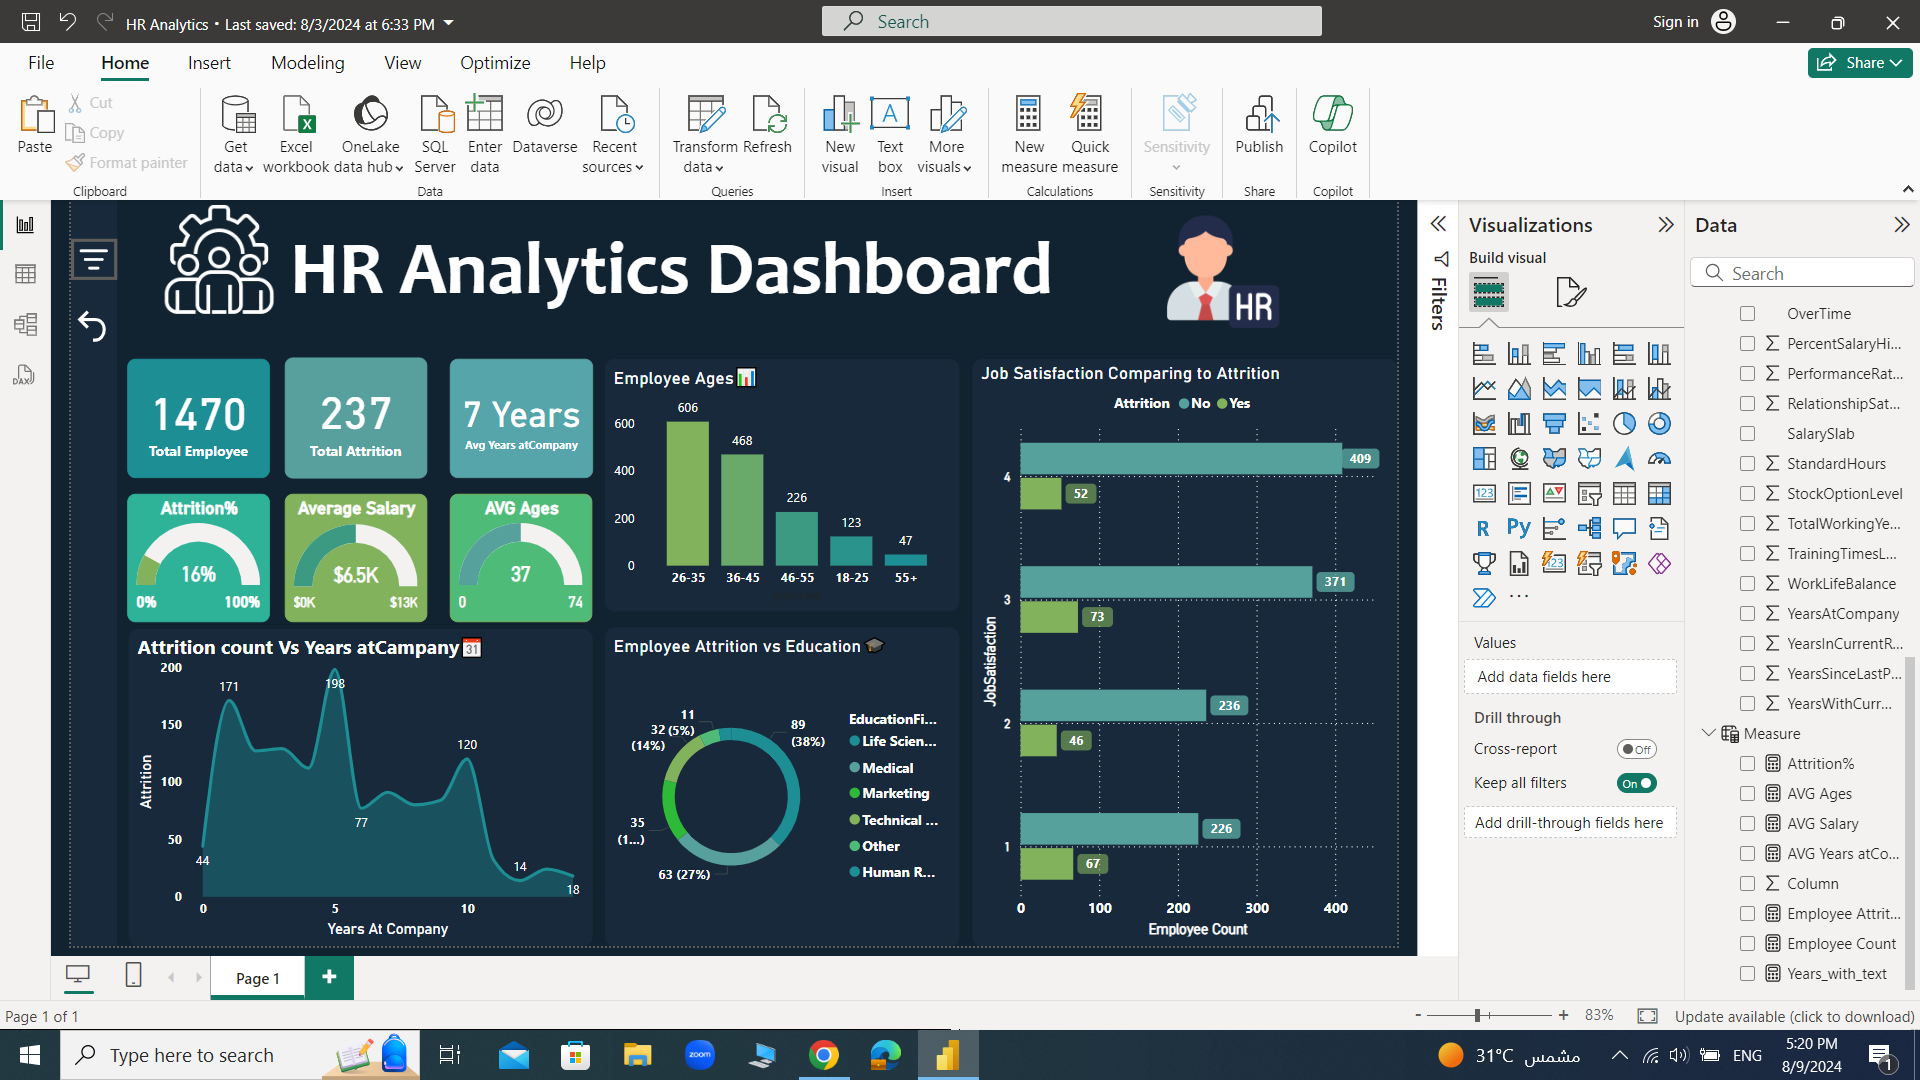

The dashboard page shown, as its layout file describes it:
{"tool":"powerbi","page":{"name":"Page 1","canvas":[1280,720],"ordinal":0},"visuals":[{"type":"areaChart","title":"Attrition count Vs Years atCampany📆","fields":{"Category":["HR_Analytics.YearsAtCompany"],"Y":["CountNonNull(HR_Analytics.Attrition)"]},"box":[55.9,413.3,448.1,306.6],"z":0},{"type":"card","fields":{"Values":["Measure.Employee Count"]},"box":[54.9,153.7,137.2,115.3],"z":1000},{"type":"card","fields":{"Values":["Measure.AVG Salary"]},"box":[205.8,284,137.2,116.6],"z":2000},{"type":"card","fields":{"Values":["Measure.Years_with_text"]},"box":[365,153.7,138.6,115.3],"z":3000},{"type":"card","fields":{"Values":["Measure.AVG Ages"]},"box":[365,284,138.6,116.6],"z":4000},{"type":"donutChart","title":"Employee Attrition vs Education🎓","fields":{"Y":["Measure.Employee Attrition"],"Category":["HR_Analytics.EducationField"]},"box":[525.6,413,343.1,307.4],"z":5000},{"type":"columnChart","title":"Employee Ages📊","fields":{"Y":["Measure.Employee Count"],"Category":["HR_Analytics.AgeGroup"]},"box":[525.6,152.3,343.1,242.9],"z":6000},{"type":"hundredPercentStackedBarChart","title":"Job Satisfaction Comparing to Attrition","fields":{"Category":["HR_Analytics.JobRole"],"Y":["Measure.Employee Attrition"],"Series":["HR_Analytics.JobSatisfaction"]},"box":[879.5,153.2,400.5,567],"z":7000},{"type":"card","fields":{"Values":["Measure.Employee Attrition"]},"box":[205.8,152.3,137.2,116.6],"z":8000},{"type":"card","fields":{"Values":["Measure.Attrition%"]},"box":[54.9,284,137.2,116.6],"z":9000},{"type":"textbox","box":[206.3,15.7,814.3,106.2],"z":10000},{"type":"shape","title":"navegator","box":[0,0,44.6,720.2],"z":11000},{"type":"image","box":[68.8,0,155.6,121.9],"z":11500},{"type":"image","box":[0,36,44.7,42.2],"z":13000},{"type":"actionButton","title":"Filter open","box":[0,37.2,44.7,39.7],"z":14000},{"type":"actionButton","box":[0,101.2,56.4,40.5],"z":15000},{"type":"image","box":[971.2,8.4,282.3,121.9],"z":17000}]}

Visuals, with their boxes on the page's 1280x720 design canvas (x1, y1, x2, y2). These are canvas units, not pixel positions in the 1920x1080 screenshot, which may show the page scaled, cropped or inside an application window:
"Attrition count Vs Years atCampany📆" areaChart: [56, 413, 504, 720]
card - Measure.Employee Count: [55, 154, 192, 269]
card - Measure.AVG Salary: [206, 284, 343, 401]
card - Measure.Years_with_text: [365, 154, 504, 269]
card - Measure.AVG Ages: [365, 284, 504, 401]
"Employee Attrition vs Education🎓" donutChart: [526, 413, 869, 720]
"Employee Ages📊" columnChart: [526, 152, 869, 395]
"Job Satisfaction Comparing to Attrition" hundredPercentStackedBarChart: [880, 153, 1280, 720]
card - Measure.Employee Attrition: [206, 152, 343, 269]
card - Measure.Attrition%: [55, 284, 192, 401]
textbox: [206, 16, 1021, 122]
"navegator" shape: [0, 0, 45, 720]
image: [69, 0, 224, 122]
image: [0, 36, 45, 78]
"Filter open" actionButton: [0, 37, 45, 77]
actionButton: [0, 101, 56, 142]
image: [971, 8, 1254, 130]
